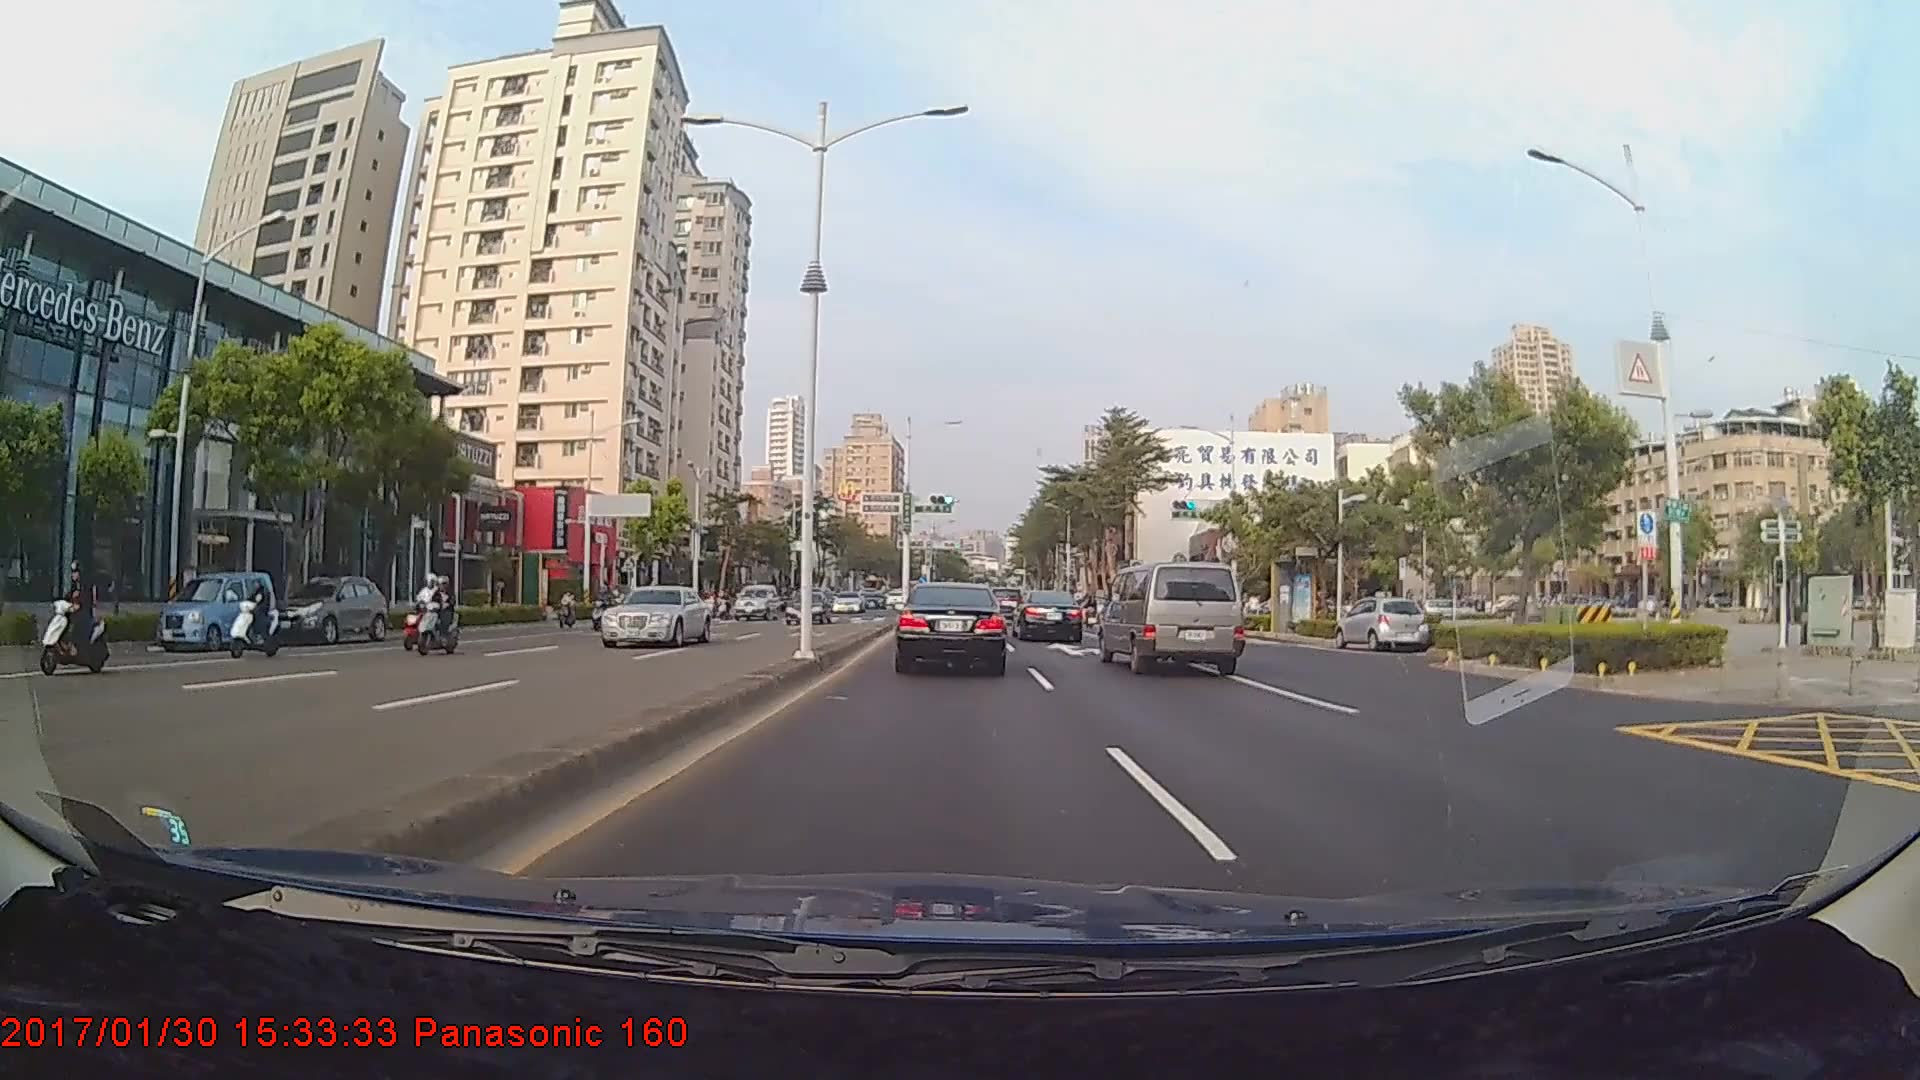rider: (37, 561, 121, 685), (221, 575, 293, 658), (398, 575, 454, 651), (408, 570, 456, 655), (587, 581, 614, 632)
vehicle: (1100, 559, 1244, 677), (153, 568, 279, 652), (895, 581, 1008, 674), (270, 573, 382, 647), (598, 582, 710, 647), (1335, 596, 1429, 652), (1011, 590, 1085, 644), (731, 583, 783, 623), (787, 591, 833, 625), (829, 591, 866, 613)
